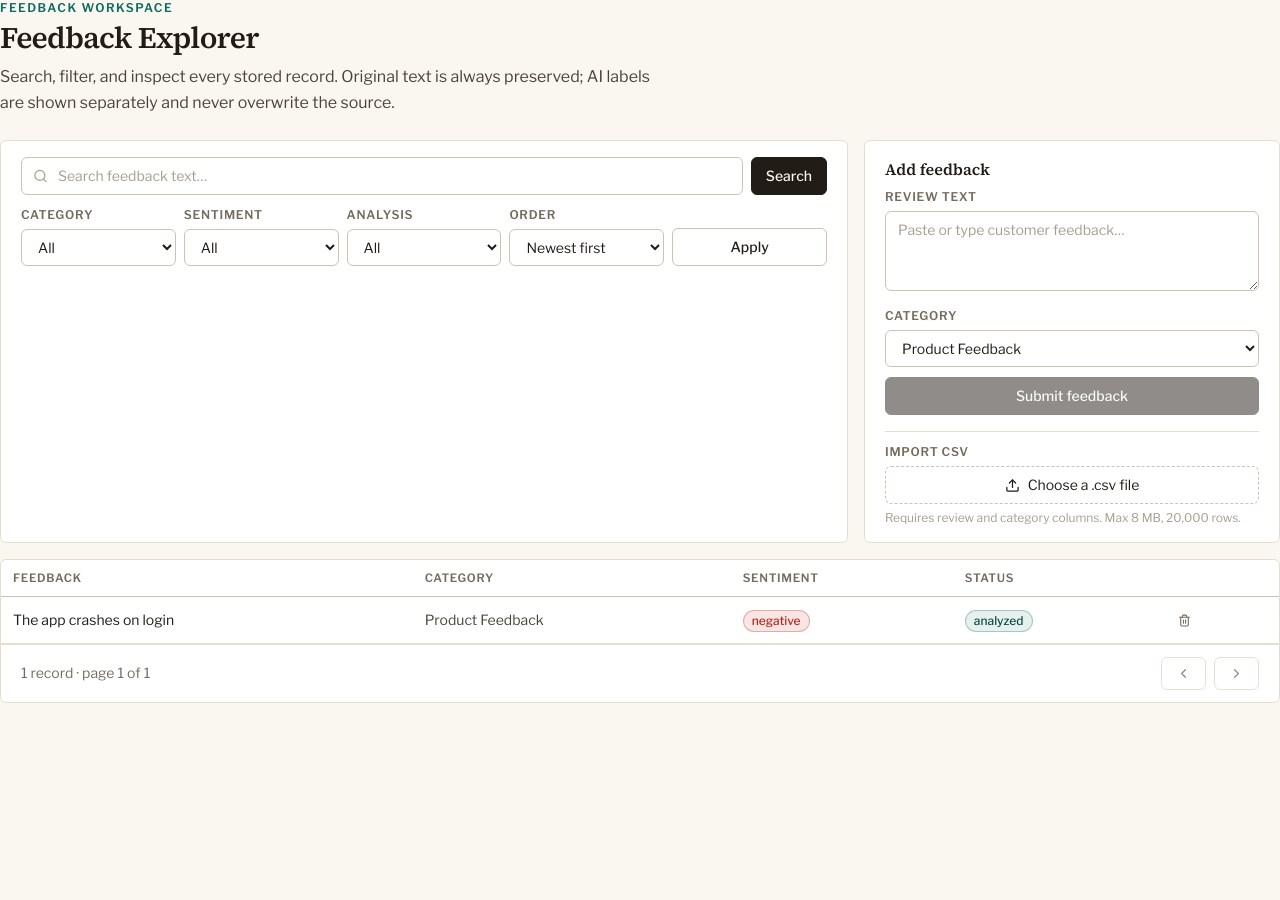
it: Feedback explorer › opens detail modal with copies count and delete option
Click the button "The app crashes on login". click: (94, 619)
box: [13,609,174,630]
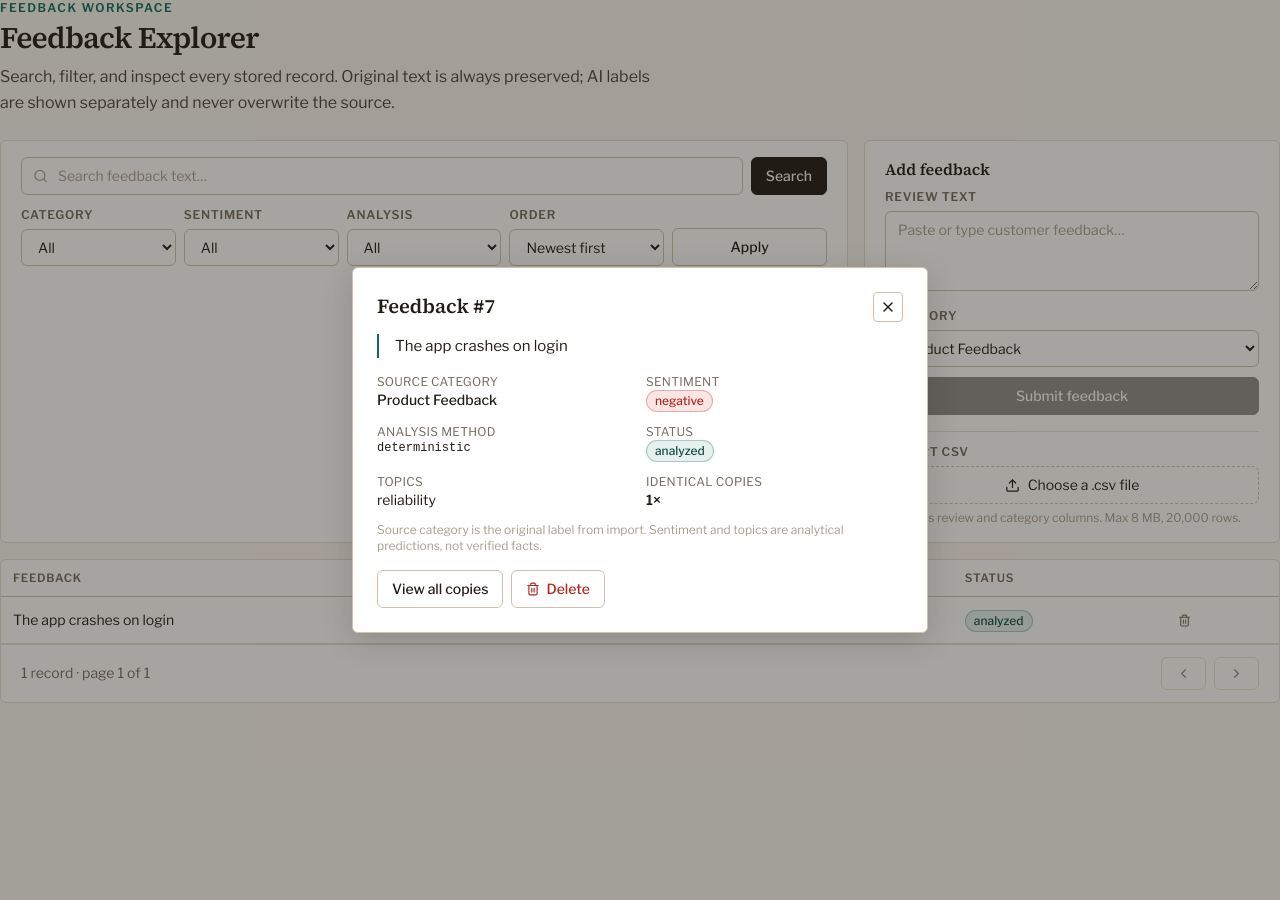
Result: the dialog named "feedback detail" is shown
Result: the heading "Feedback #7" is shown at [377,292,495,320]
